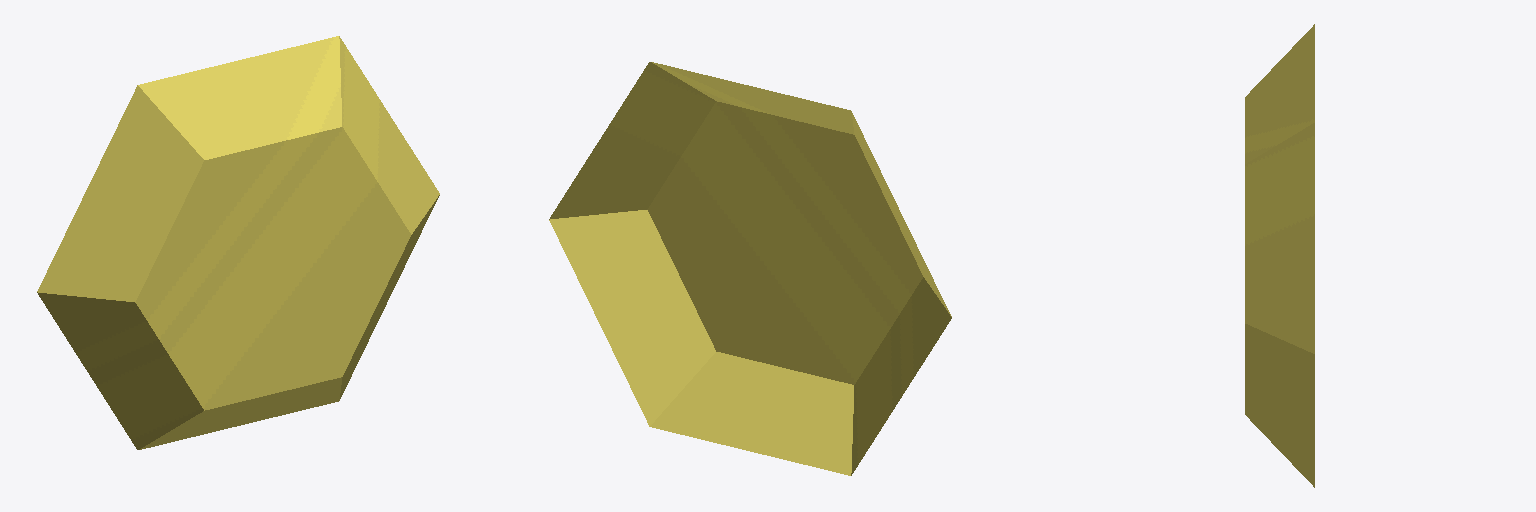
3 views of the same model, side by side, from view 1: azimuth 30°, elevation 25°; view 2: azimuth 150°, elevation 25°; view 3: azimuth 270°, elevation 25° (orthographic).
Visible parts, largest first — view 1: hex; view 2: hex; view 3: hex.
Part boxes in pixels (x1,y1,x2,y2): hex: (37,36,439,449); hex: (549,62,951,475); hex: (1245,24,1314,487).
Size of the model in its own units: 2 by 1.73 by 0.3.
Materials: 1 (1 with a texture image).